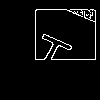T: (25, 25, 78, 80)
